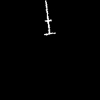double_crochet: (44, 1, 54, 34)
